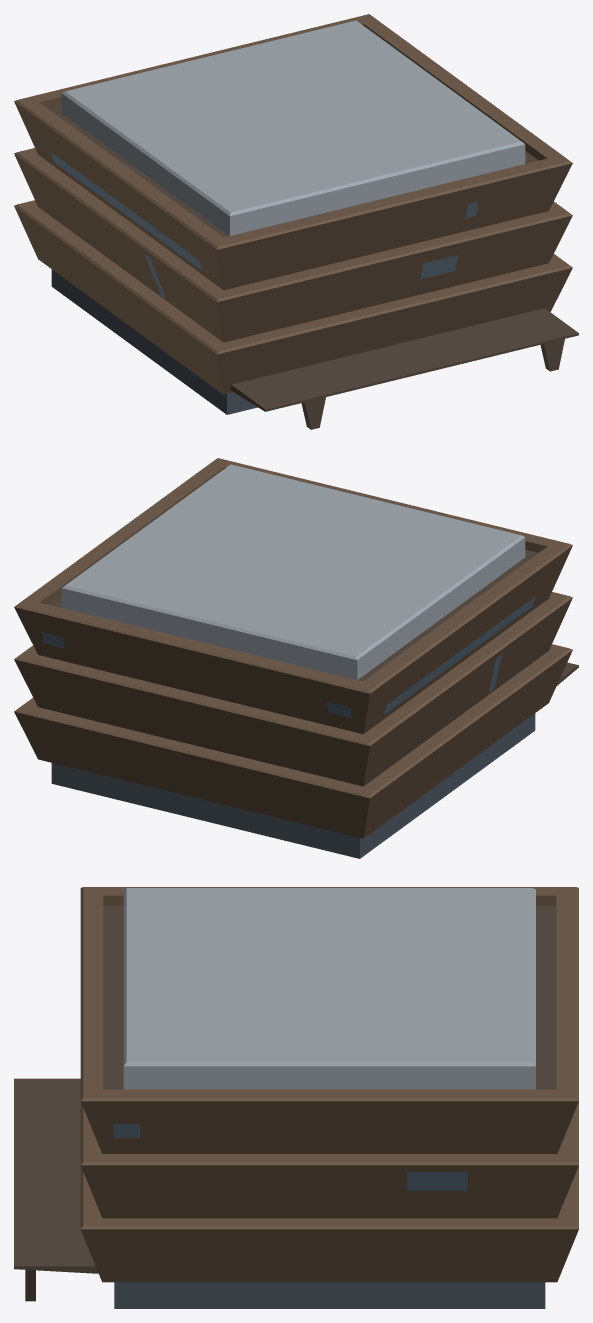
File: dc-nmaahc.glb
3 renders of one model, top to bottom at view 1: azimuth 30°, elevation 25°; view 2: azimuth 150°, elevation 25°; view 3: azimuth 270°, elevation 25°, orthographic. The views are drawn at different scales.
Visible parts, largest first — view 1: National Museum of African American History and Culture; view 2: National Museum of African American History and Culture; view 3: National Museum of African American History and Culture.
Part boxes in pixels (x1,y1,x2,y2): National Museum of African American History and Culture: (14,14,578,429); National Museum of African American History and Culture: (14,458,578,858); National Museum of African American History and Culture: (14,887,578,1308).
Bounding box in the file's own units: 66.29 × 35 × 74.24.
